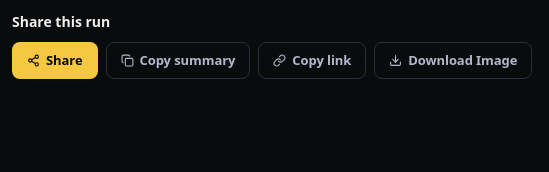
Scenario: ShareRunPanel › copies the permalink, not the text summary
Click the button with test id "share-run-copy-link-btn" at (312, 60), box x1=258 y1=42 x2=366 y2=79
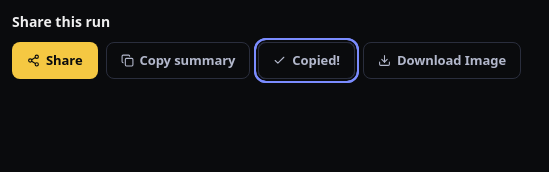
Expected: the button with test id "share-run-copy-link-btn" shows "Copied", x1=258 y1=42 x2=355 y2=79
